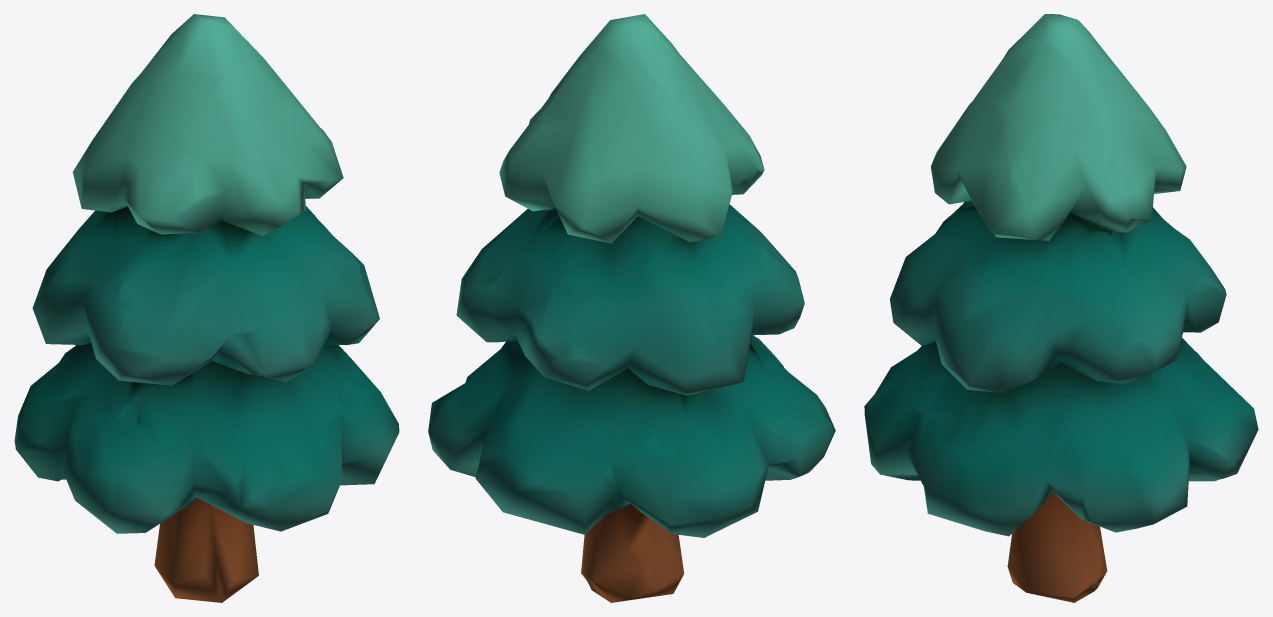
Rendered from tree_pine.glb.
The picture shows the model from 3 angles, left to right: view 1: azimuth 30°, elevation 25°; view 2: azimuth 150°, elevation 25°; view 3: azimuth 270°, elevation 25°; orthographic projection.
Visible parts, largest first — view 1: tripo_node_9af1edee-2f29-4acf-9270-449d1b22c119; view 2: tripo_node_9af1edee-2f29-4acf-9270-449d1b22c119; view 3: tripo_node_9af1edee-2f29-4acf-9270-449d1b22c119.
Boxes of the visible parts, x1,y1,x2,y2 form: tripo_node_9af1edee-2f29-4acf-9270-449d1b22c119: (14,14,399,602); tripo_node_9af1edee-2f29-4acf-9270-449d1b22c119: (428,14,835,602); tripo_node_9af1edee-2f29-4acf-9270-449d1b22c119: (864,14,1258,602).
Bounding box in the file's own units: 0.1176 × 0.2 × 0.1252.
1 material, 1 textured.
